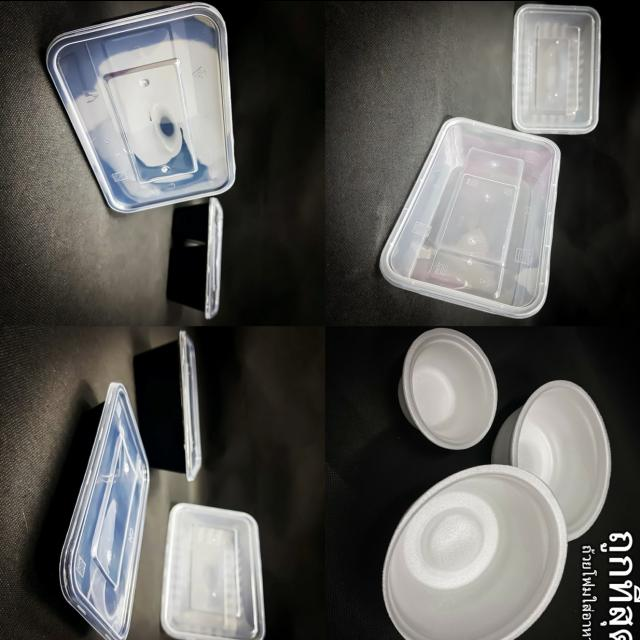plastik: (46, 1, 236, 211), (380, 116, 560, 317), (382, 464, 568, 640), (39, 382, 149, 640), (492, 380, 610, 540), (161, 502, 266, 640), (399, 326, 498, 448), (513, 4, 600, 133), (135, 329, 202, 479), (167, 197, 223, 317)
